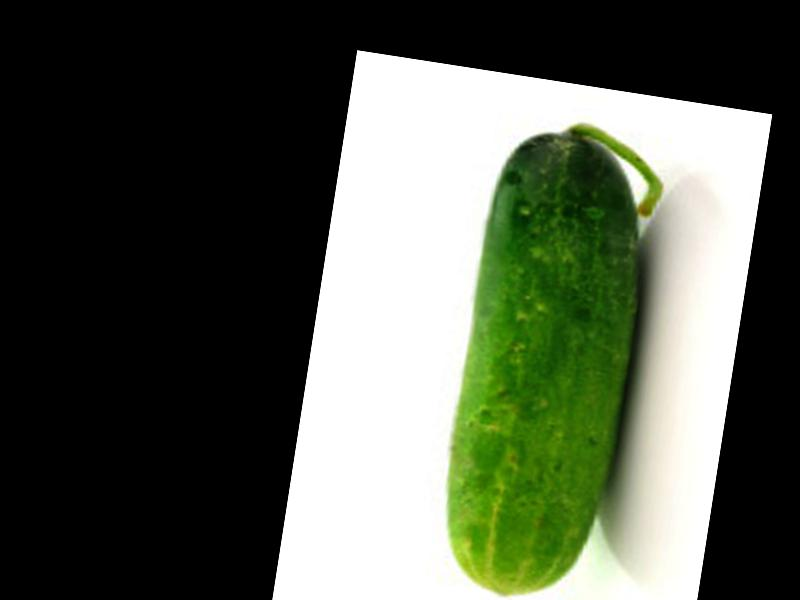Cucumber: (429, 115, 669, 600)
